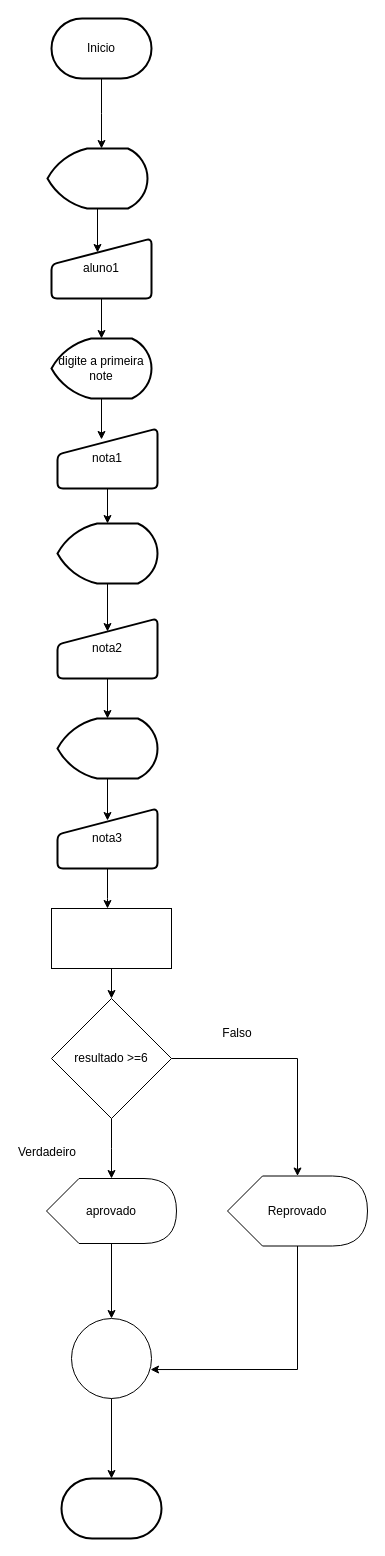
The diagram is 385 pixels wide and 1556 high, and some of its shapes have lost their labels. The centre of each missing label's shape, as x and y in pixels:
"digite a segunda note" belongs at point 107,553.
"digite a terceira note" belongs at point 107,748.
"Digite o nome do aluno" belongs at point 97,178.
"Fim" belongs at point 111,1508.
"media = (nota 1 + nota 2 + nota3)/3" belongs at point 111,938.
